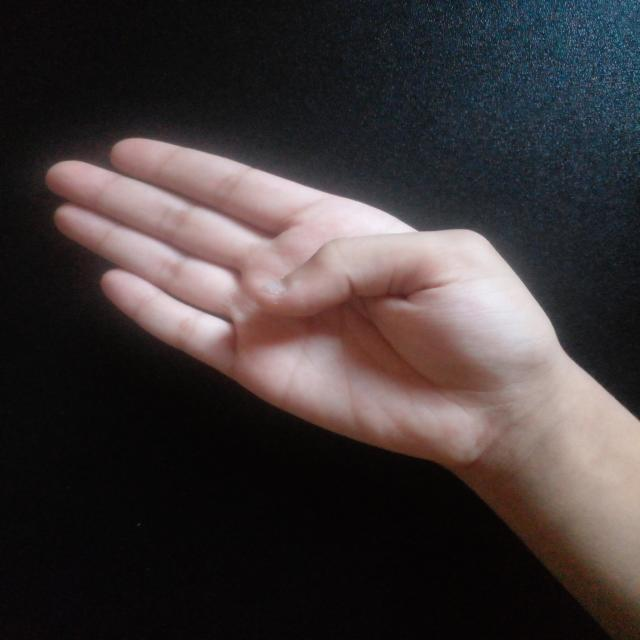Open Hand: (43, 130, 556, 463)
